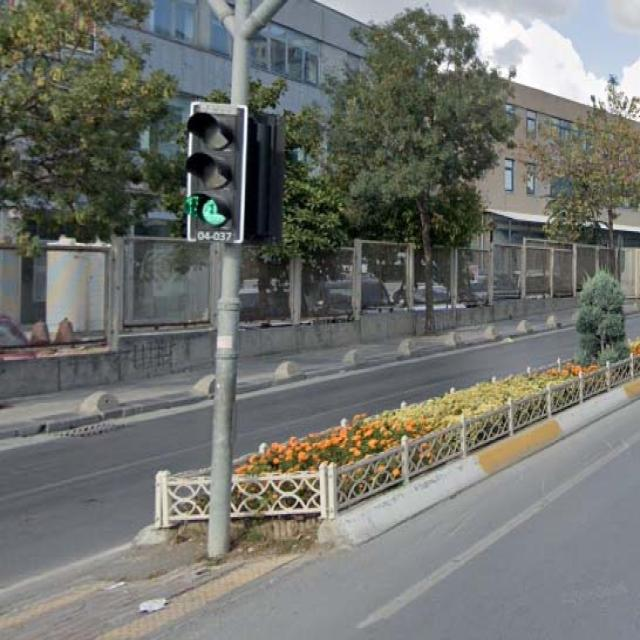yesil: (189, 100, 240, 238)
